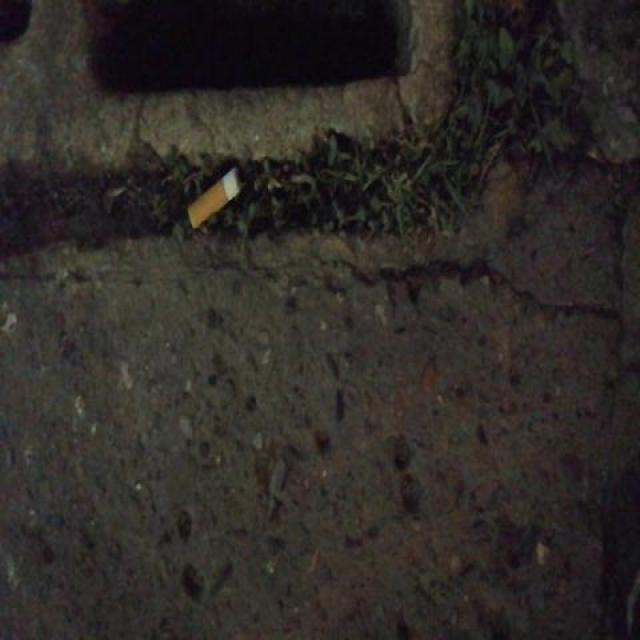non-organic waste: (185, 160, 247, 231)
